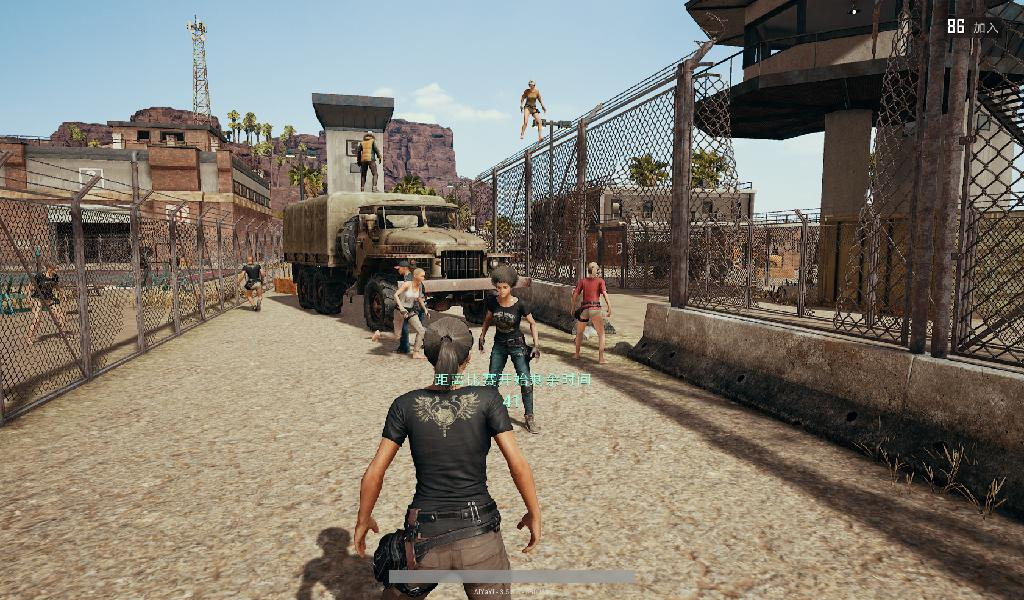Target Person: (353, 317, 542, 600), (478, 266, 544, 436), (371, 269, 430, 360), (566, 261, 612, 366), (25, 260, 73, 346), (394, 258, 429, 355), (517, 78, 548, 144), (237, 256, 268, 315), (354, 129, 382, 193)
